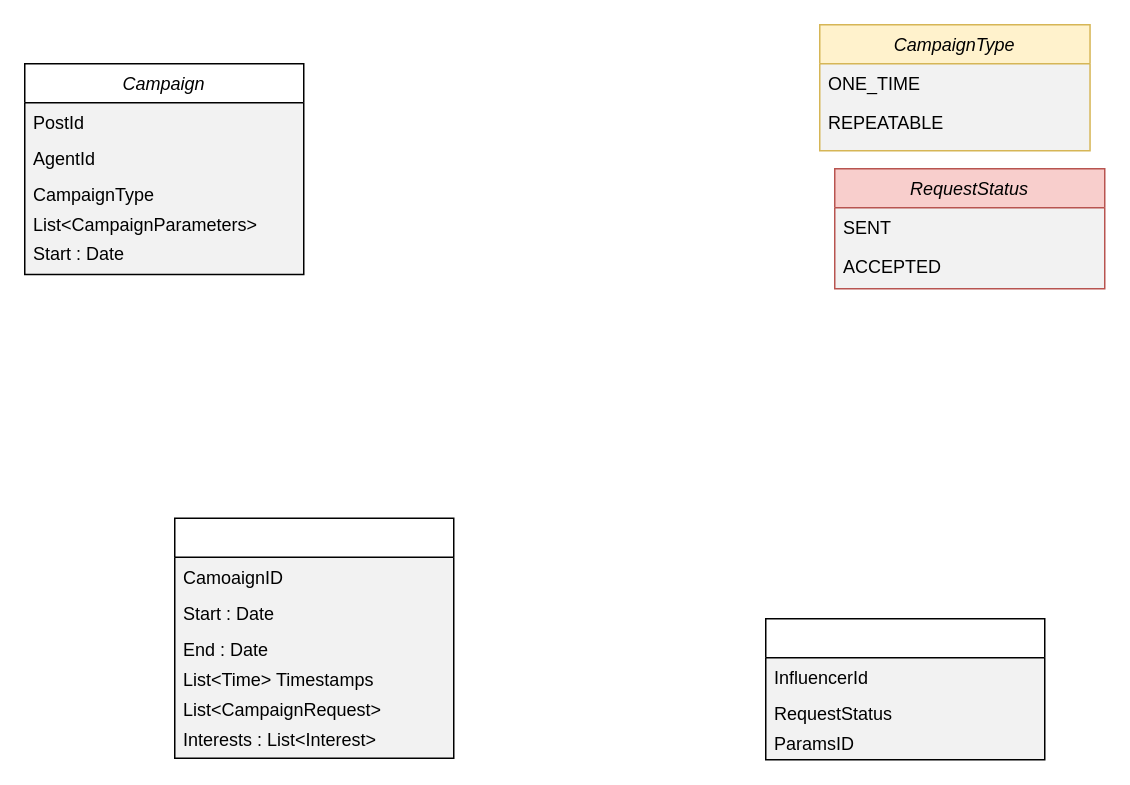
This 1130x785 diagram has some shape labels left out. Here are the shapes that lost their labels. From the top down, the box of each, then its label:
(173, 517, 454, 758): CampaignParameters
(764, 617, 1045, 760): CampaignRequest
